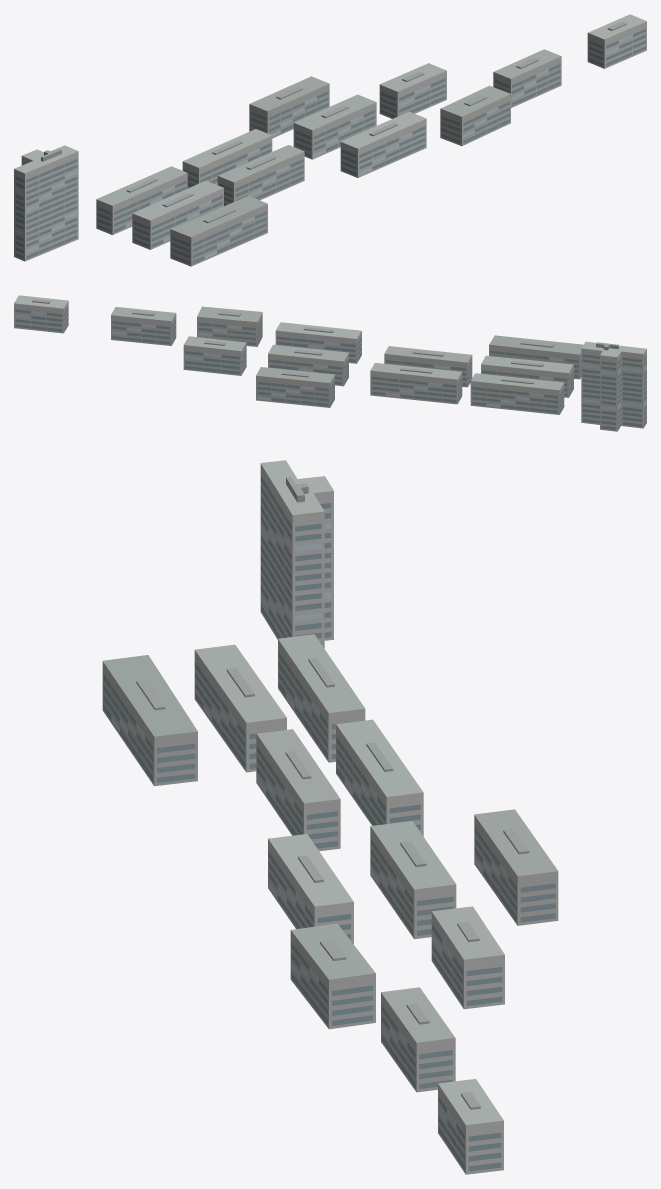
The model's file is apt-a13920703.glb.
The picture shows the model from 3 angles, top to bottom: view 1: azimuth 30°, elevation 25°; view 2: azimuth 150°, elevation 25°; view 3: azimuth 270°, elevation 25°; orthographic projection. The views are drawn at different scales.
Visible parts, largest first — view 1: apt-a13920703; view 2: apt-a13920703; view 3: apt-a13920703.
Part boxes in pixels (left/top/right/bottom): apt-a13920703: left=14, top=14, right=646, bottom=266; apt-a13920703: left=14, top=295, right=646, bottom=431; apt-a13920703: left=102, top=460, right=558, bottom=1174.
Size of the model in its own units: 373 by 47.81 by 127.
